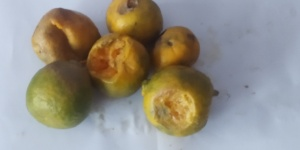BAD: (134, 65, 208, 137), (83, 29, 149, 105), (17, 63, 91, 128), (33, 7, 97, 65), (149, 18, 198, 74), (106, 1, 165, 42)
